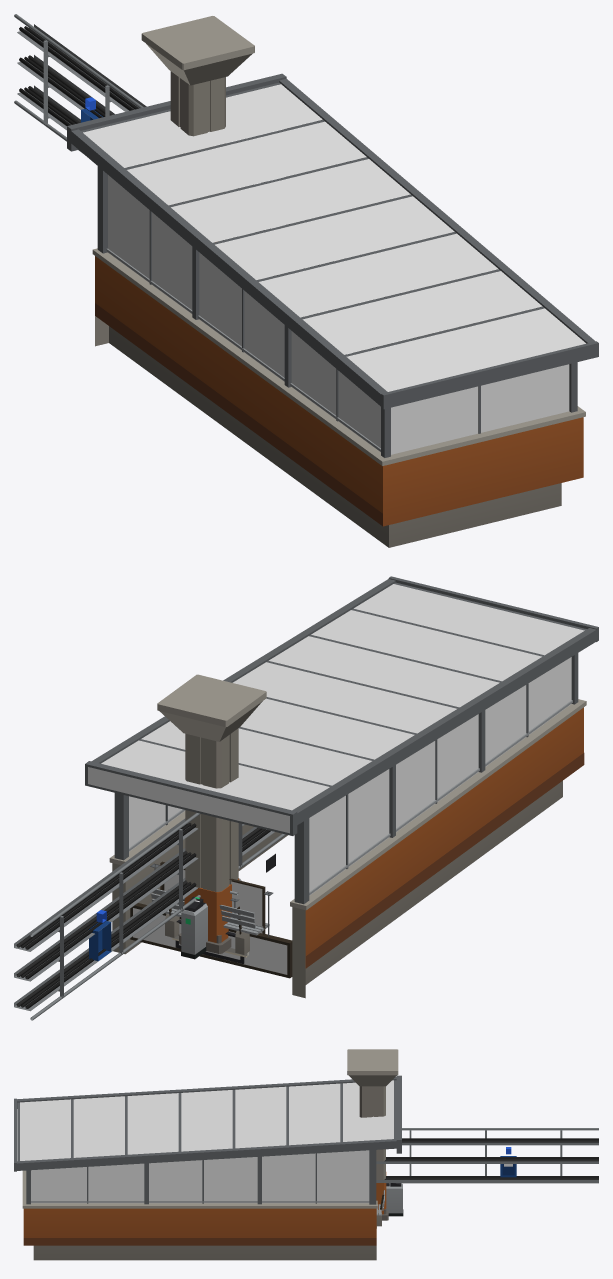
Rendered from station-kit.glb.
The picture shows the model from 3 angles, top to bottom: view 1: azimuth 30°, elevation 25°; view 2: azimuth 150°, elevation 25°; view 3: azimuth 270°, elevation 25°; orthographic projection. The views are drawn at different scales.
Visible parts, largest first — view 1: canopy_lod0, column_lod0, tunnel_bay_lod0; view 2: canopy_lod0, tunnel_bay_lod0, column_lod0, sign_name_lod0, bench_lod0, fare_gate_lod0, map_board_lod0; view 3: canopy_lod0, tunnel_bay_lod0, column_lod0, fare_gate_lod0.
Boxes of the visible parts, bbox=[...] form: canopy_lod0: bbox=[67, 73, 598, 547]; column_lod0: bbox=[141, 16, 254, 242]; tunnel_bay_lod0: bbox=[14, 14, 400, 351]; canopy_lod0: bbox=[85, 576, 598, 998]; tunnel_bay_lod0: bbox=[14, 812, 285, 1020]; column_lod0: bbox=[157, 674, 266, 953]; sign_name_lod0: bbox=[130, 863, 292, 978]; bench_lod0: bbox=[151, 889, 269, 954]; fare_gate_lod0: bbox=[181, 878, 241, 959]; map_board_lod0: bbox=[160, 861, 265, 934]; canopy_lod0: bbox=[14, 1075, 401, 1260]; tunnel_bay_lod0: bbox=[376, 1128, 598, 1183]; column_lod0: bbox=[347, 1049, 398, 1220]; fare_gate_lod0: bbox=[386, 1183, 403, 1216].
Size of what is drawn, in the model's own units: 4.04 by 5.1 by 15.52.
